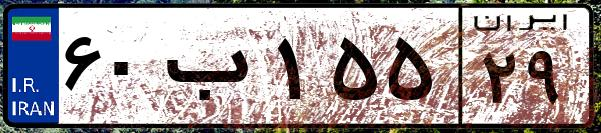0: (110, 28, 158, 98)
1: (270, 28, 330, 110)
2: (475, 38, 525, 113)
5: (385, 28, 445, 110), (330, 28, 385, 110)
6: (57, 26, 110, 100)
9: (525, 38, 570, 115)
ب: (158, 20, 270, 120)
